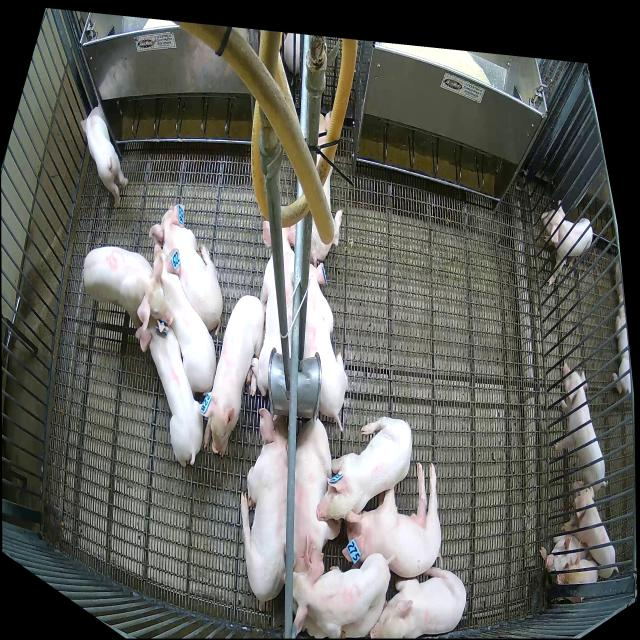pig: (342, 460, 442, 577), (135, 300, 203, 466), (198, 295, 265, 457), (317, 417, 412, 523), (150, 204, 223, 337), (154, 244, 216, 395), (240, 409, 288, 601), (292, 554, 390, 637), (251, 220, 296, 396), (83, 247, 173, 331), (304, 262, 348, 432), (293, 418, 340, 572), (370, 568, 466, 639), (293, 569, 382, 640), (80, 103, 128, 208), (310, 111, 342, 261)
